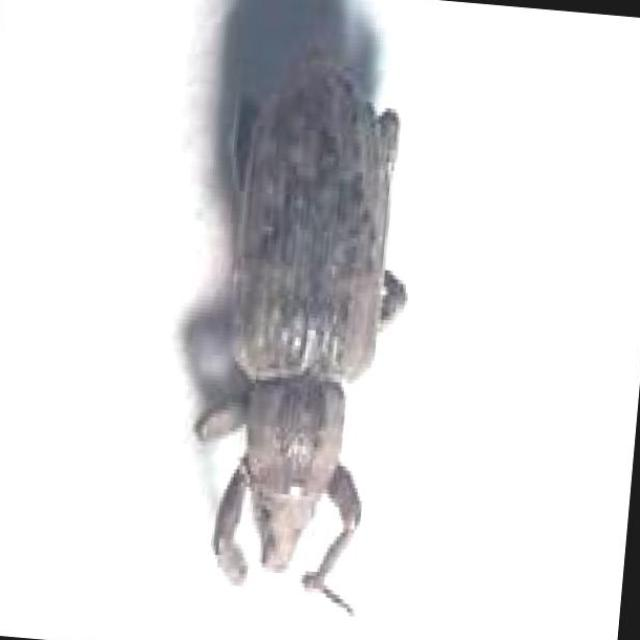ricebug: (196, 46, 406, 611)
